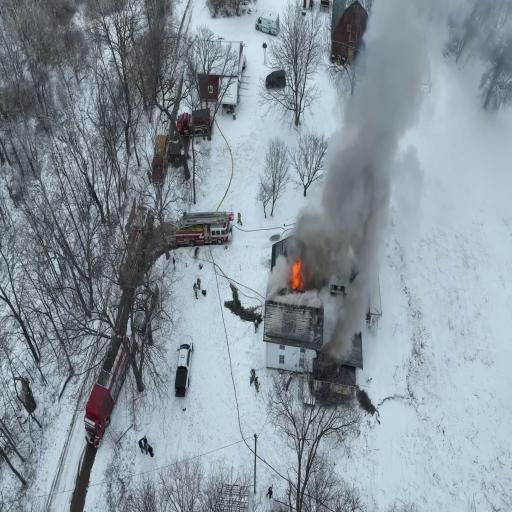fire: (289, 252, 303, 284)
smoke: (324, 179, 366, 268)
